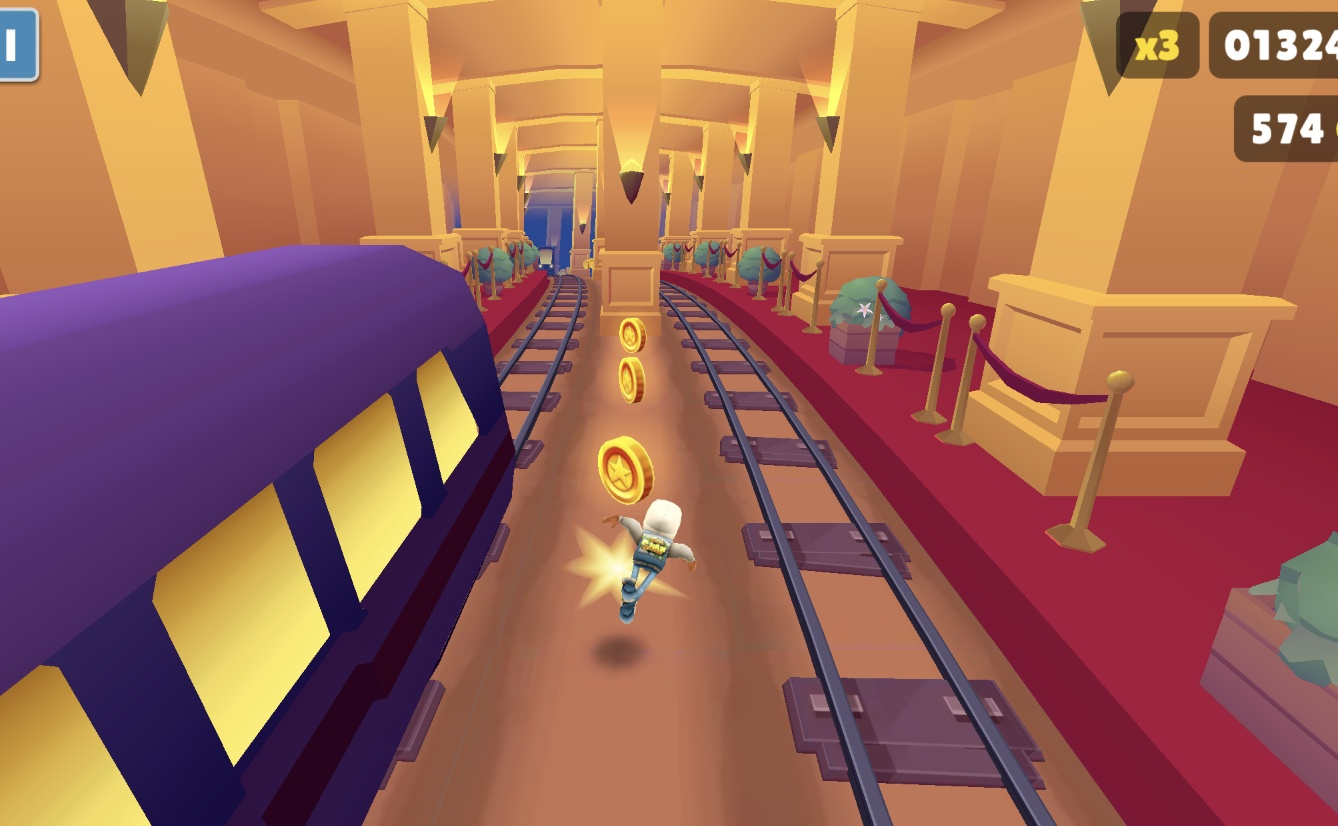pillar: (587, 0, 657, 337)
train: (0, 242, 514, 826)
